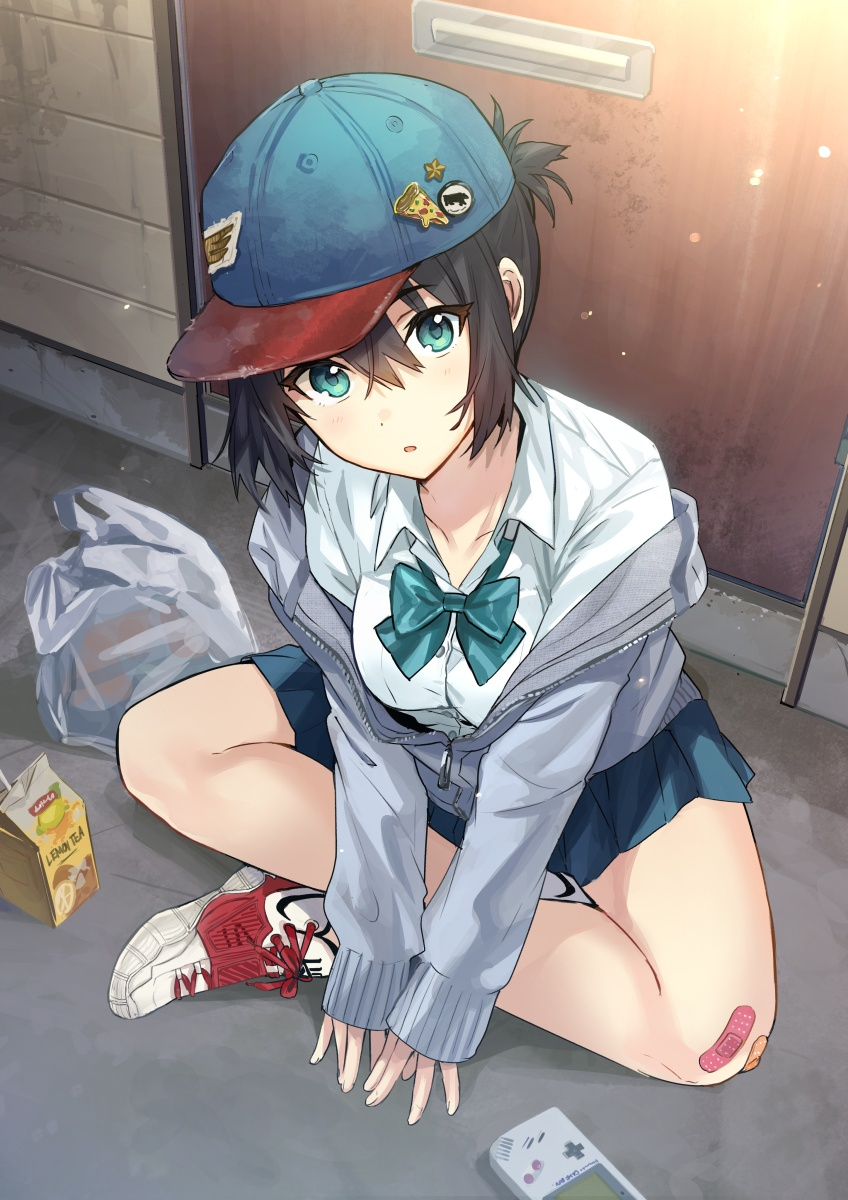纸片人正脸: (209, 74, 565, 496)
